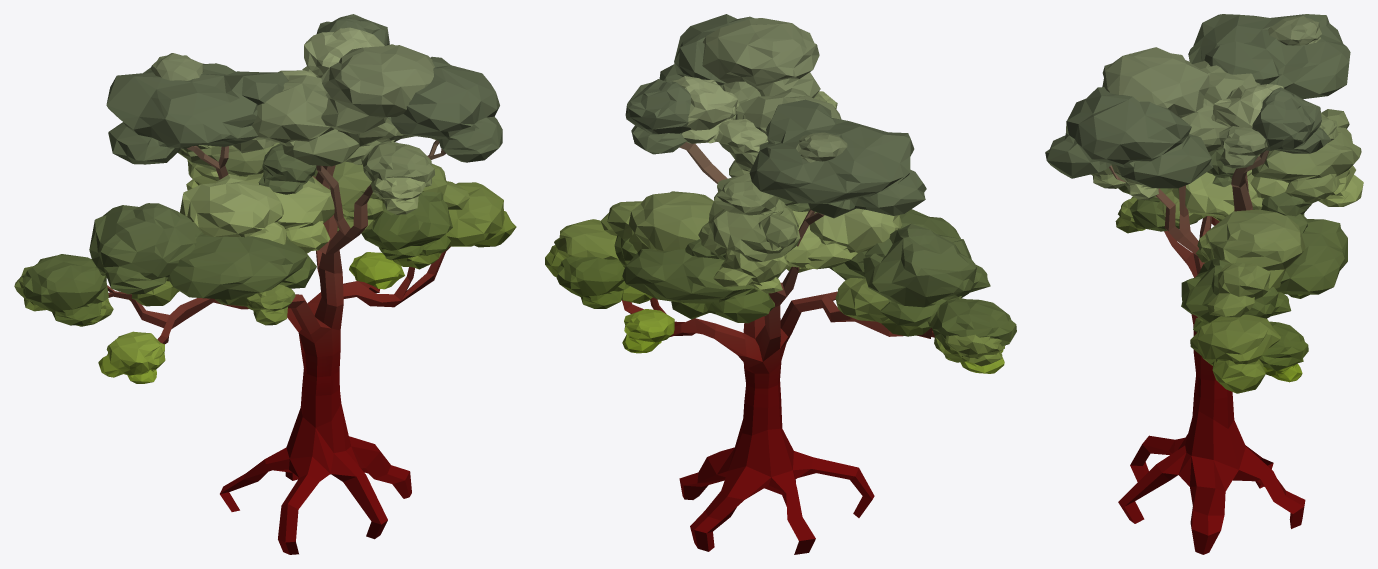
File: synty-tree-large-01.gltf
The picture shows the model from 3 angles, left to right: view 1: azimuth 30°, elevation 25°; view 2: azimuth 150°, elevation 25°; view 3: azimuth 270°, elevation 25°; orthographic projection.
Parts seen in each view (by area): view 1: SM_Tree_Large_01; view 2: SM_Tree_Large_01; view 3: SM_Tree_Large_01.
Boxes of the visible parts, left/top/right/bottom form: SM_Tree_Large_01: left=14, top=14, right=516, bottom=554; SM_Tree_Large_01: left=545, top=14, right=1016, bottom=554; SM_Tree_Large_01: left=1045, top=14, right=1363, bottom=554.
Bounding box in the file's own units: 9.3 × 8.83 × 5.42.
Materials: 1 (1 with a texture image).
